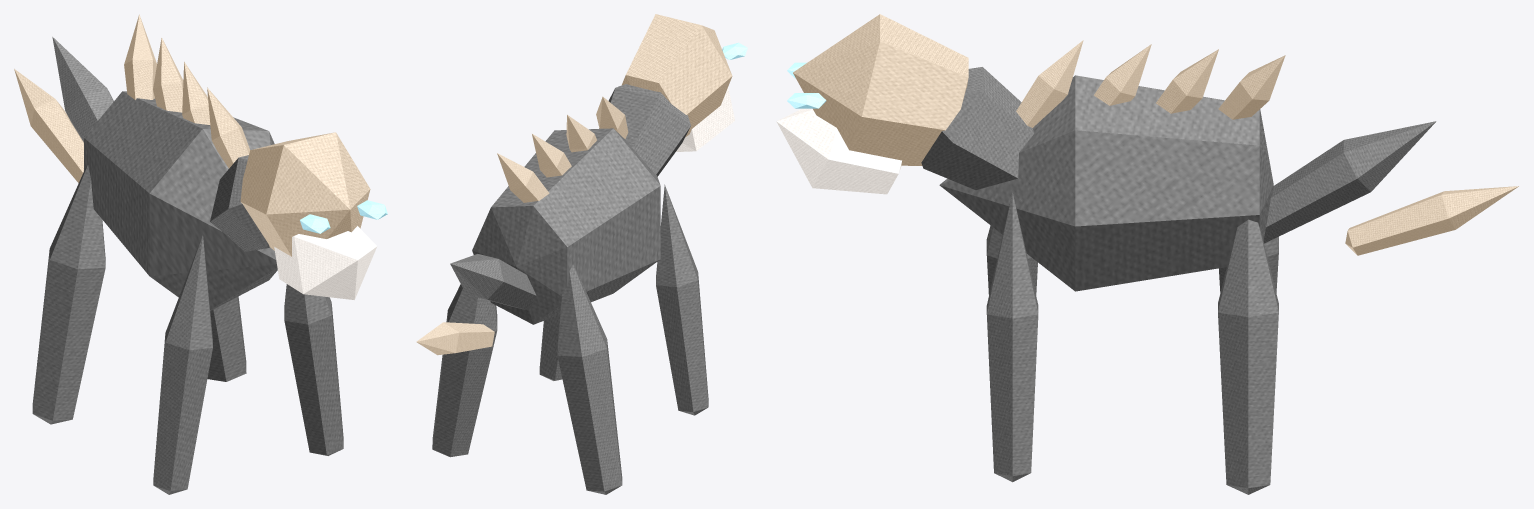
The model's file is deep-fracture-creature-CrystalHound-earth.glb.
3 renders of one model, left to right at view 1: azimuth 30°, elevation 25°; view 2: azimuth 150°, elevation 25°; view 3: azimuth 270°, elevation 25°, orthographic. The views are drawn at different scales.
Parts seen in each view (by area): view 1: rib-body, hindleg-1, skull, foreleg-1, foreleg1, jaw, tail-blade, tail-base, neck, hindleg1, spine0, spine3 (+4 smaller); view 2: rib-body, hindleg-1, skull, foreleg-1, hindleg1, neck, tail-base, tail-blade, jaw, spine0, foreleg1, spine1 (+2 smaller); view 3: rib-body, skull, hindleg1, foreleg1, tail-base, neck, jaw, tail-blade, spine3, spine0, spine1, spine2 (+1 smaller).
Part boxes in pixels (x1,y1,x2,y2): rib-body: (84, 91, 277, 310); hindleg-1: (32, 165, 105, 424); skull: (240, 132, 370, 256); foreleg-1: (153, 235, 212, 494); foreleg1: (284, 284, 343, 455); jaw: (274, 226, 376, 299); tail-blade: (14, 69, 83, 182); tail-base: (52, 37, 113, 142); neck: (210, 155, 269, 251); hindleg1: (207, 296, 246, 381); spine0: (124, 14, 156, 99); spine3: (207, 87, 249, 168); rib-body: (472, 128, 660, 324); hindleg-1: (557, 264, 622, 494); skull: (622, 14, 732, 137); foreleg-1: (656, 184, 708, 415); hindleg1: (432, 284, 497, 457); neck: (599, 84, 690, 176); tail-base: (450, 254, 536, 310); tail-blade: (416, 322, 494, 355); jaw: (676, 87, 734, 151); spine0: (497, 153, 549, 202); foreleg1: (539, 314, 562, 380); spine1: (532, 134, 571, 177); rib-body: (939, 75, 1273, 291); skull: (793, 14, 968, 165); hindleg1: (1218, 219, 1278, 494); foreleg1: (986, 192, 1038, 482); tail-base: (1263, 121, 1436, 243); neck: (921, 67, 1033, 189); jaw: (776, 108, 901, 194); tail-blade: (1345, 186, 1518, 255); spine3: (1016, 40, 1083, 127); spine0: (1218, 55, 1285, 119); spine1: (1156, 49, 1218, 113); spine2: (1094, 44, 1151, 105).
Bounding box in the file's own units: 0.9838 × 1.71 × 2.74.
9 materials, 9 textured.
